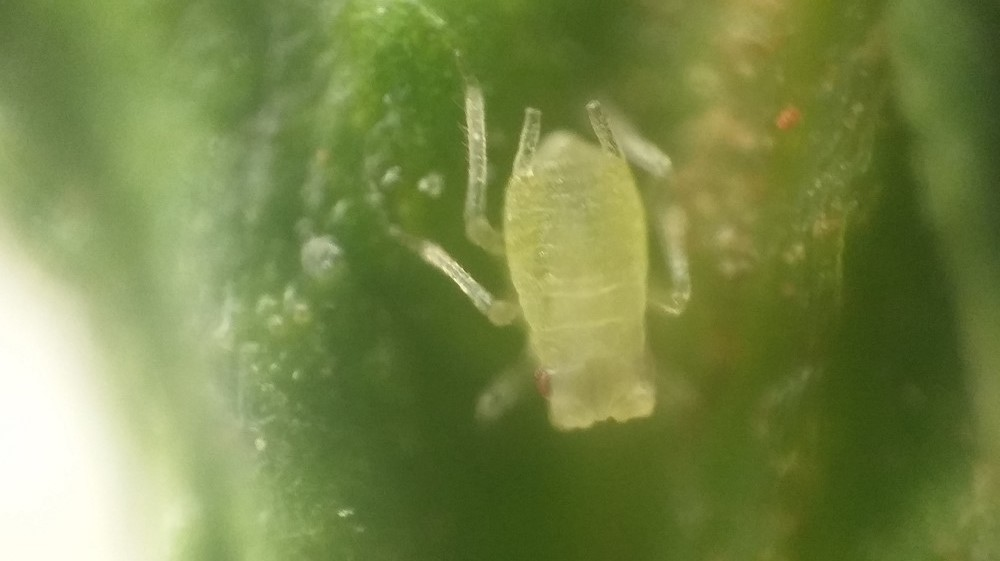Pulgon: (389, 65, 754, 467)
